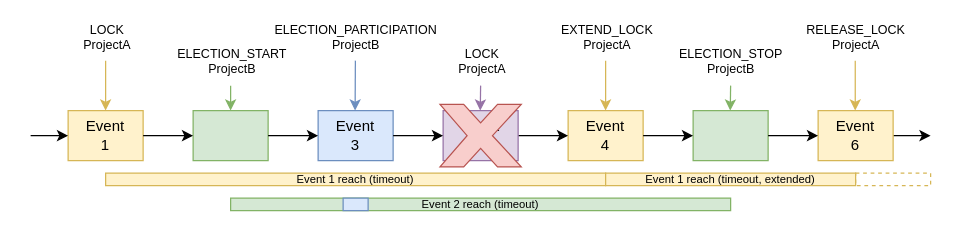
Some shapes in this 963 by 233 pixel diagram are drawn without their labels. Here are the shapes that lost their labels. From the top down, the centre of each, then its label:
At point (230, 135): "Event 2".
At point (730, 135): "Event 5".
